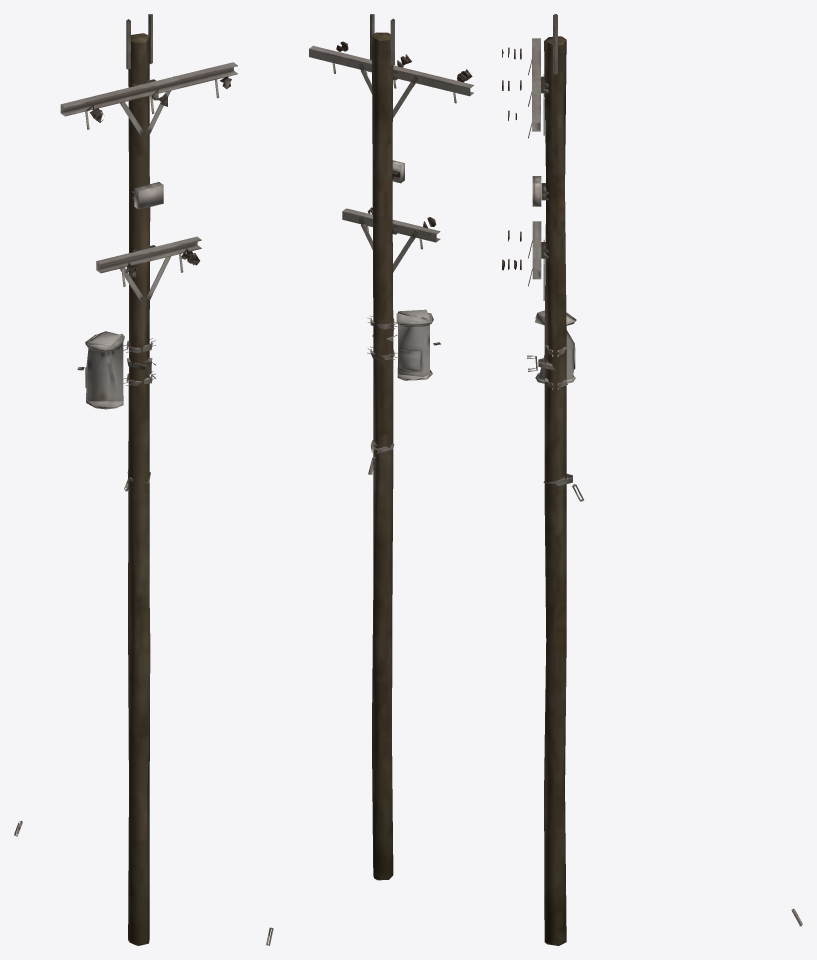
File: poteau_electrique_a_lod2.glb
The picture shows the model from 3 angles, left to right: view 1: azimuth 30°, elevation 25°; view 2: azimuth 150°, elevation 25°; view 3: azimuth 270°, elevation 25°; orthographic projection. The views are drawn at different scales.
Parts seen in each view (by area): view 1: preset_01_pole, preset_01_bolt_small_01; view 2: preset_01_pole, preset_01_bolt_small_01; view 3: preset_01_pole, preset_01_bolt_small_01.
Boxes of the visible parts, x1=… form: preset_01_pole: x1=128, y1=33, x2=150, y2=945; preset_01_bolt_small_01: x1=14, y1=14, x2=237, y2=836; preset_01_pole: x1=372, y1=32, x2=393, y2=880; preset_01_bolt_small_01: x1=266, y1=14, x2=473, y2=945; preset_01_pole: x1=544, y1=36, x2=566, y2=945; preset_01_bolt_small_01: x1=502, y1=14, x2=802, y2=926.
Bounding box in the file's own units: 1.2 × 6.13 × 1.81.
Materials: 2 (2 with a texture image).
